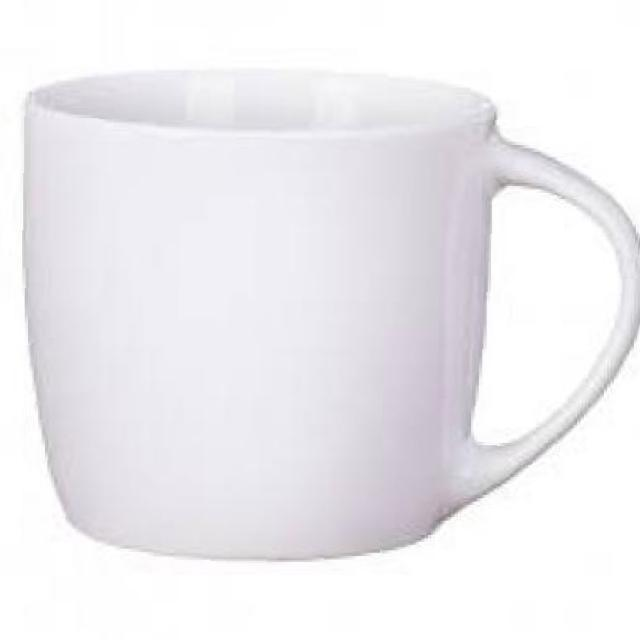cup: (0, 18, 61, 640)
